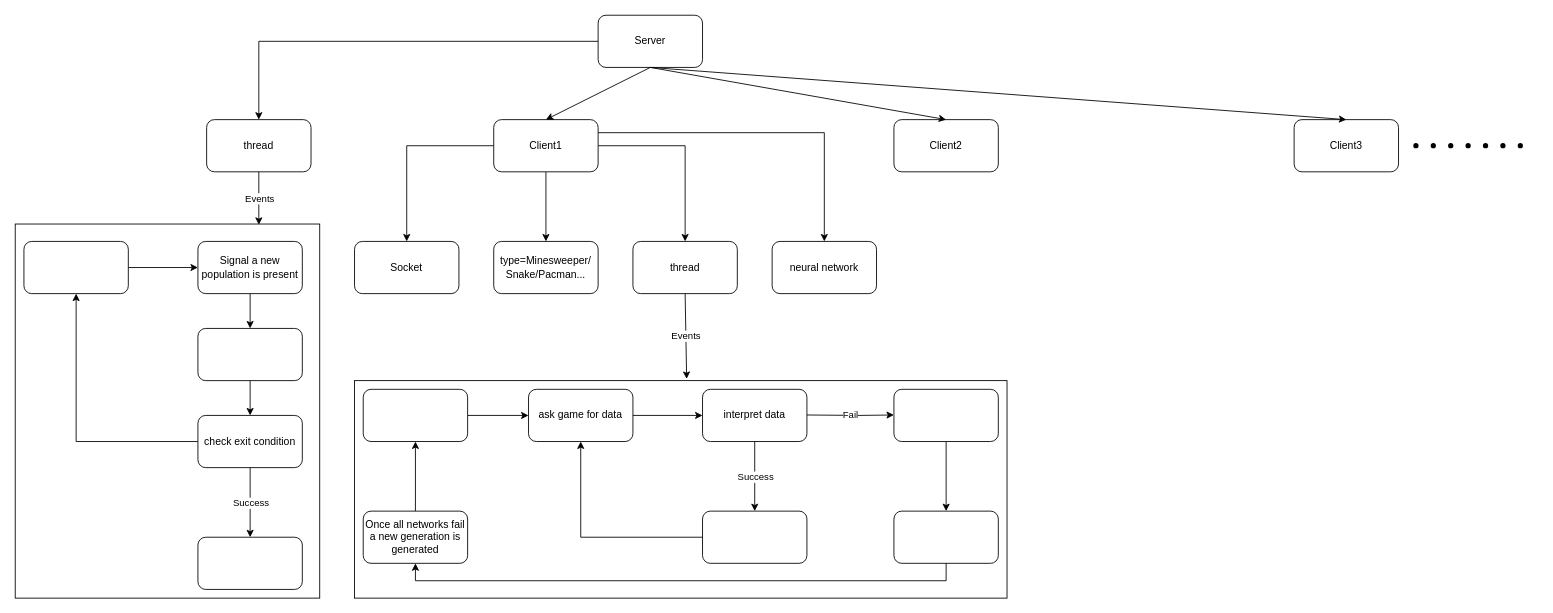
The diagram is 1553 pixels wide and 613 high, and some of its shapes have lost their labels. The box of each missing label's shape, as (x1, y1, x2, y2) in pixels:
Calculate Fitness: (893, 388, 998, 442)
Generate a new population: (23, 241, 128, 294)
Load a new network into the client: (362, 388, 468, 442)
Output the best network: (197, 536, 302, 589)
Server sends instructions to client: (702, 510, 807, 563)
wait for all networks to fail: (197, 328, 302, 381)
Wait for all other networks to fail: (893, 510, 998, 563)
